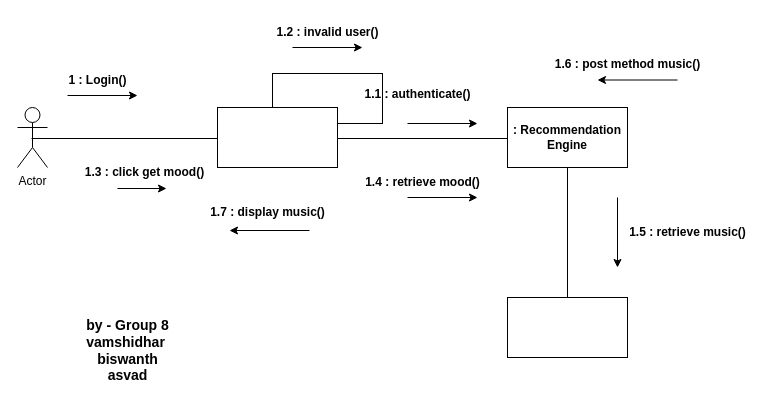
Some shapes in this 775 by 407 pixel diagram are drawn without their labels. Here are the shapes that lost their labels. From the top down, the centre of each, then its label:
[277,137]: : UI
[567,327]: : database
